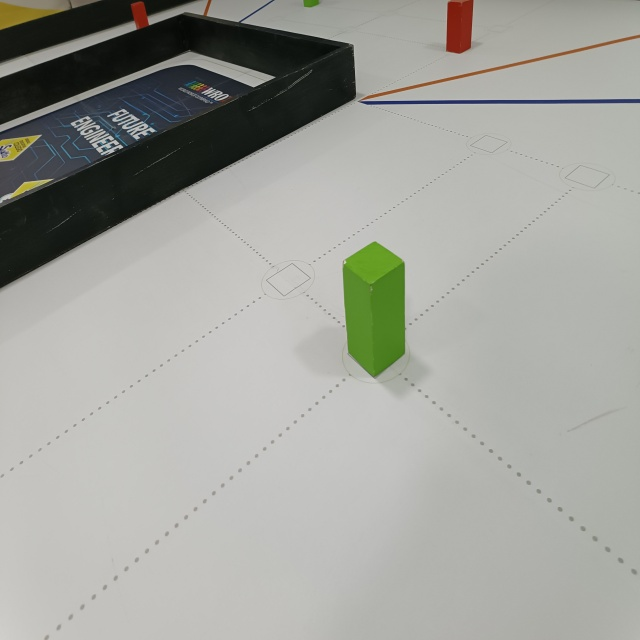blue line: (355, 96, 640, 108), (232, 0, 276, 27)
green rectangular prism: (339, 242, 418, 382)
orange line: (357, 31, 640, 100), (196, 0, 219, 20)
red rectangular prism: (439, 0, 477, 57), (126, 4, 158, 31)
